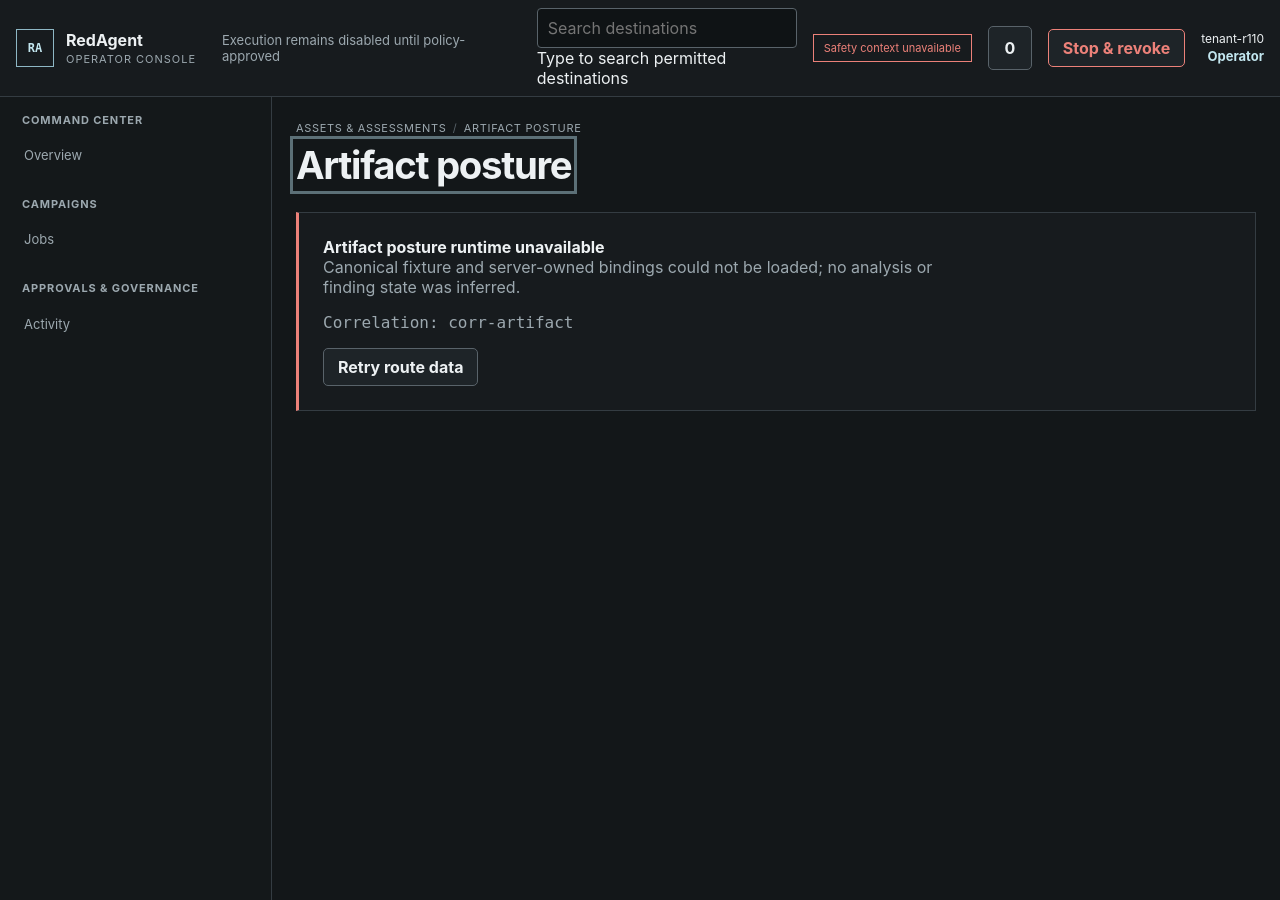
Test: projects a correlated artifact outage and retries without inferring findings
Expected: the message "Artifact posture runtime unavailable" is shown, x1=296 y1=212 x2=1256 y2=411
Expected: the text "Correlation: corr-artifact" is shown, x1=323 y1=313 x2=574 y2=332
Click the button "Retry route data": {"x": 401, "y": 367} x1=323 y1=348 x2=478 y2=386
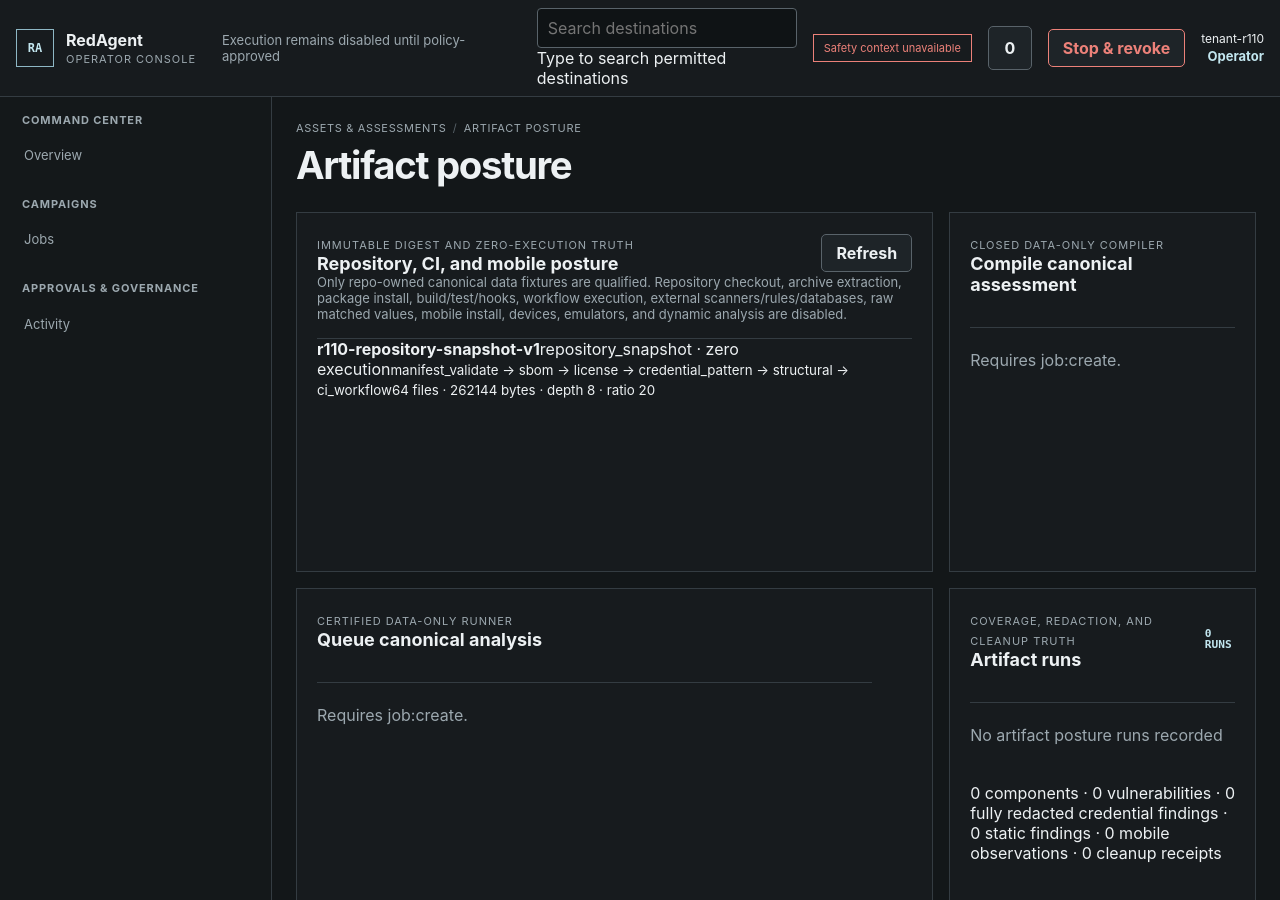
Expected: the text "No artifact posture runs recorded" is shown, x1=970 y1=702 x2=1235 y2=767
